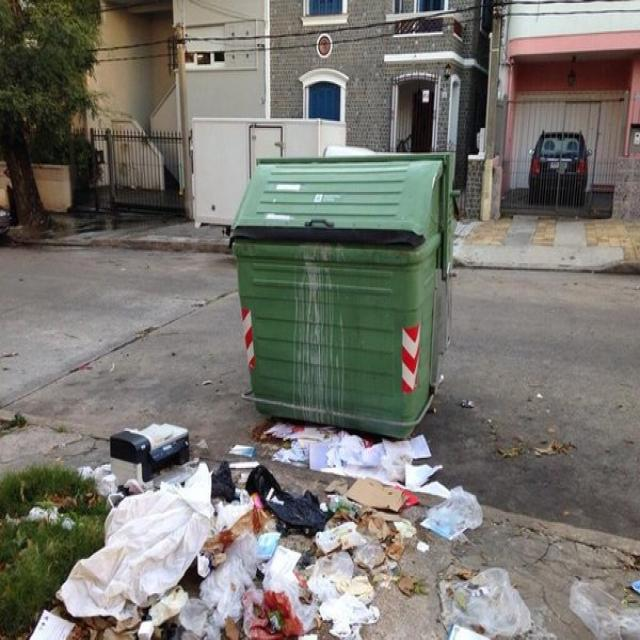garbage: (58, 416, 444, 640), (444, 558, 558, 640), (564, 568, 640, 640)
